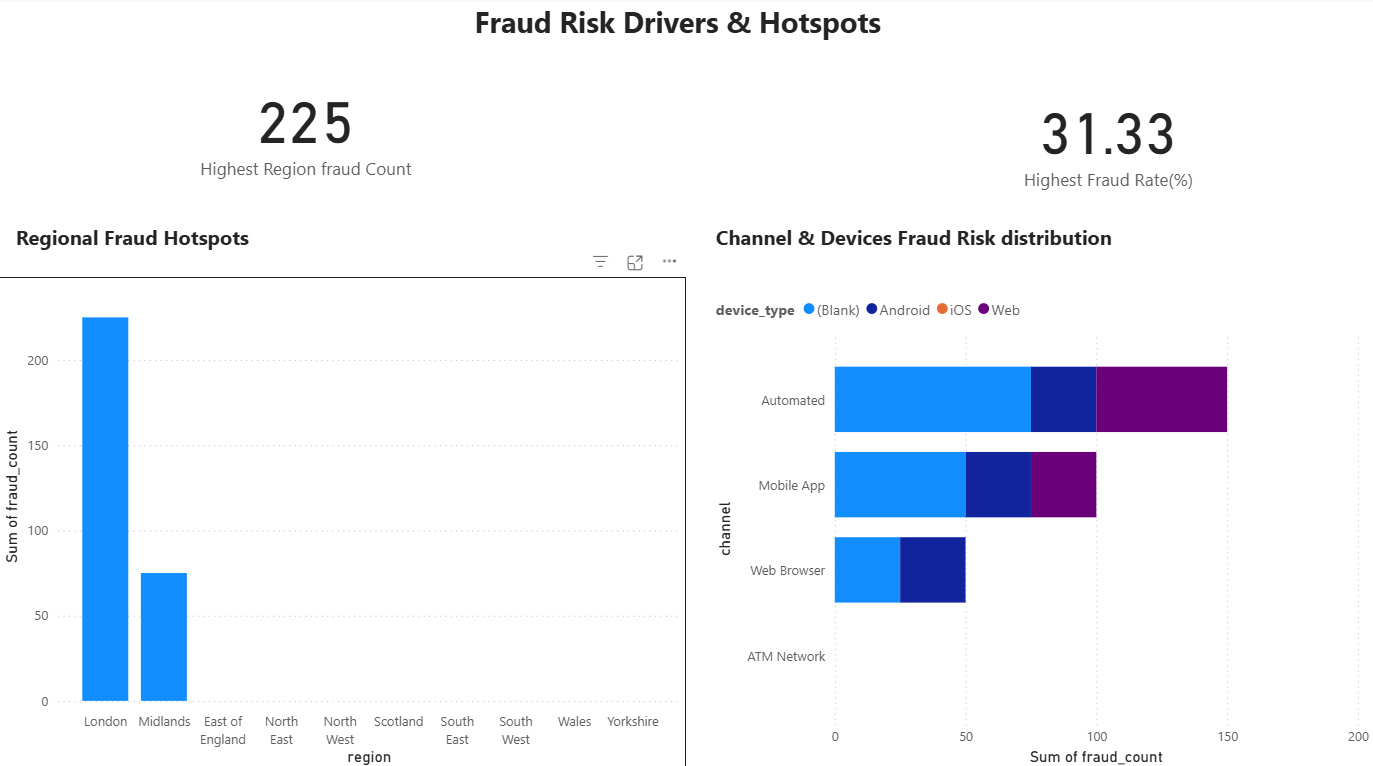

The dashboard page shown, as its layout file describes it:
{"tool":"powerbi","page":{"name":"Page 3","canvas":[1280,720],"ordinal":2},"visuals":[{"type":"clusteredColumnChart","fields":{"Category":["Q4.region"],"Y":["Sum(Q4.fraud_count)"]},"box":[0,260.5,639.5,459.3],"z":0},{"type":"barChart","fields":{"Category":["Q8.channel"],"Y":["Sum(Q8.fraud_count)"],"Series":["Q8.device_type"]},"box":[662.8,269.8,617.4,450],"z":1000},{"type":"textbox","box":[438.4,0,448.8,58.1],"z":2000},{"type":"card","fields":{"Values":["Max(Q4.fraud_count)"]},"box":[150,36,273.3,169.8],"z":3000},{"type":"card","fields":{"Values":["Max(Q6.fraud_rate)"]},"box":[903.5,58.1,259.3,146.5],"z":4000},{"type":"textbox","box":[11.6,205.8,448.8,45.3],"z":5000},{"type":"textbox","box":[662.8,205.8,423.3,45.3],"z":6000}]}

Visuals, with their boxes in screenshot pixels (x1, y1, x2, y2), scaled from the page's 1280x720 canvas onto the 1373x766 screenshot:
clusteredColumnChart - Q4.region x Sum(Q4.fraud_count): 0 277 686 765
barChart - Q8.channel x Sum(Q8.fraud_count): 711 287 1372 765
textbox: 470 0 952 62
card - Max(Q4.fraud_count): 161 38 454 219
card - Max(Q6.fraud_rate): 969 62 1247 218
textbox: 12 219 494 267
textbox: 711 219 1165 267
